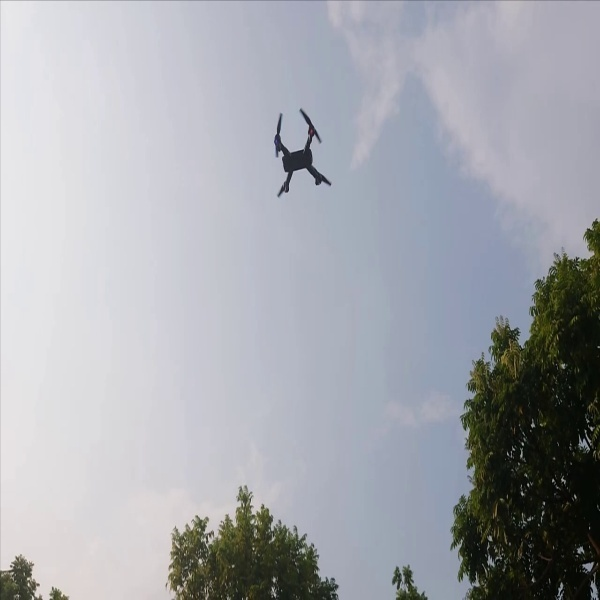drone: (267, 103, 347, 204)
